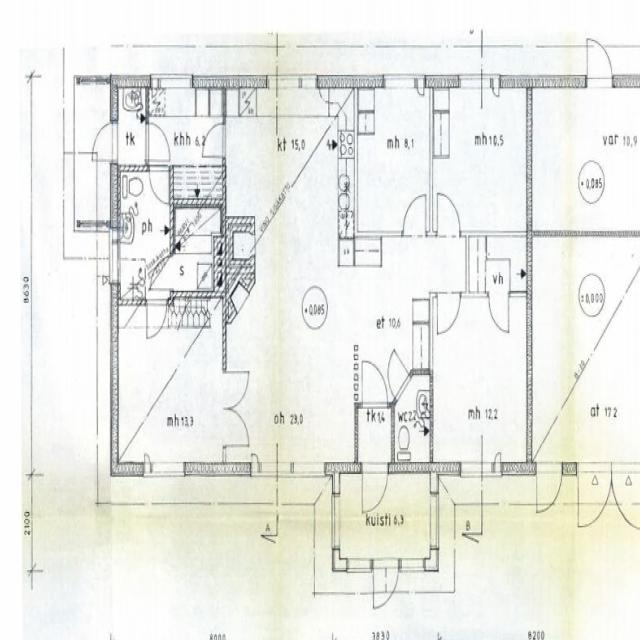door: (578, 462, 611, 530), (611, 462, 640, 530), (380, 349, 412, 402), (373, 558, 399, 614), (536, 462, 562, 517), (587, 34, 612, 88), (362, 462, 386, 516), (362, 360, 388, 407), (87, 123, 117, 160), (437, 292, 461, 336), (437, 193, 460, 237), (223, 408, 249, 446), (223, 370, 249, 408), (403, 193, 425, 237), (145, 124, 170, 160), (202, 123, 226, 157), (146, 298, 166, 337), (489, 291, 509, 330), (150, 256, 173, 288), (150, 166, 168, 203)
